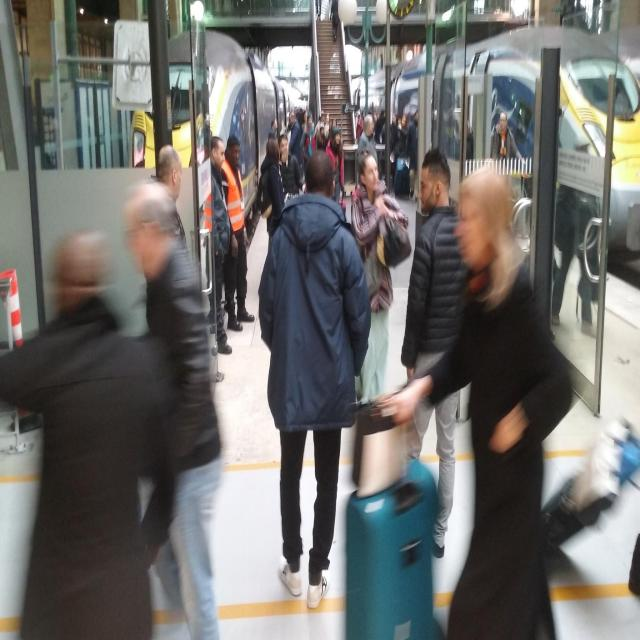body: (372, 166, 576, 640), (0, 230, 184, 640), (258, 149, 372, 611), (119, 179, 226, 640), (399, 147, 467, 560), (144, 143, 194, 511), (349, 146, 413, 408), (548, 137, 614, 343), (219, 132, 255, 332), (210, 136, 232, 356), (431, 82, 478, 164), (260, 138, 285, 236), (278, 133, 307, 207), (325, 125, 345, 205), (490, 112, 524, 157), (294, 107, 338, 139), (404, 109, 419, 199), (354, 108, 386, 149), (385, 111, 402, 184), (356, 113, 378, 169), (300, 112, 318, 179), (300, 110, 316, 182), (393, 113, 412, 158), (288, 112, 302, 168), (355, 110, 364, 140), (267, 119, 278, 142)
